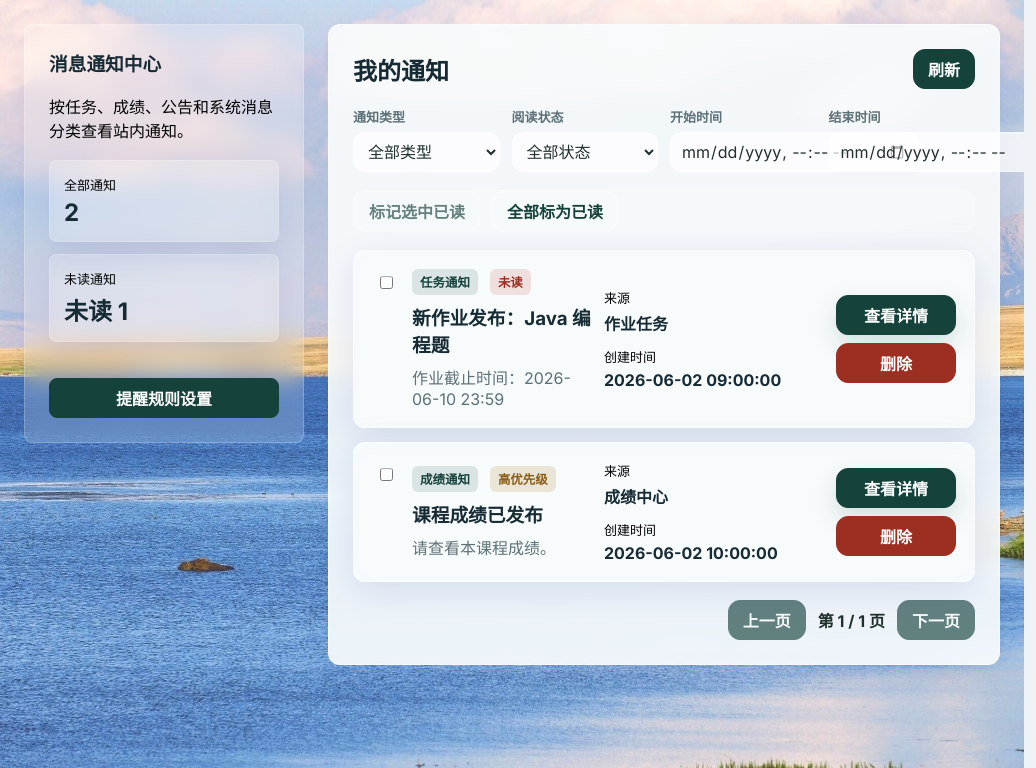
Scenario: NotificationCenterView › reloads from the first page when filters change and shows empty state
Select "成绩通知" in the dropdown named "type" at [426, 152], box [353, 132, 500, 172]
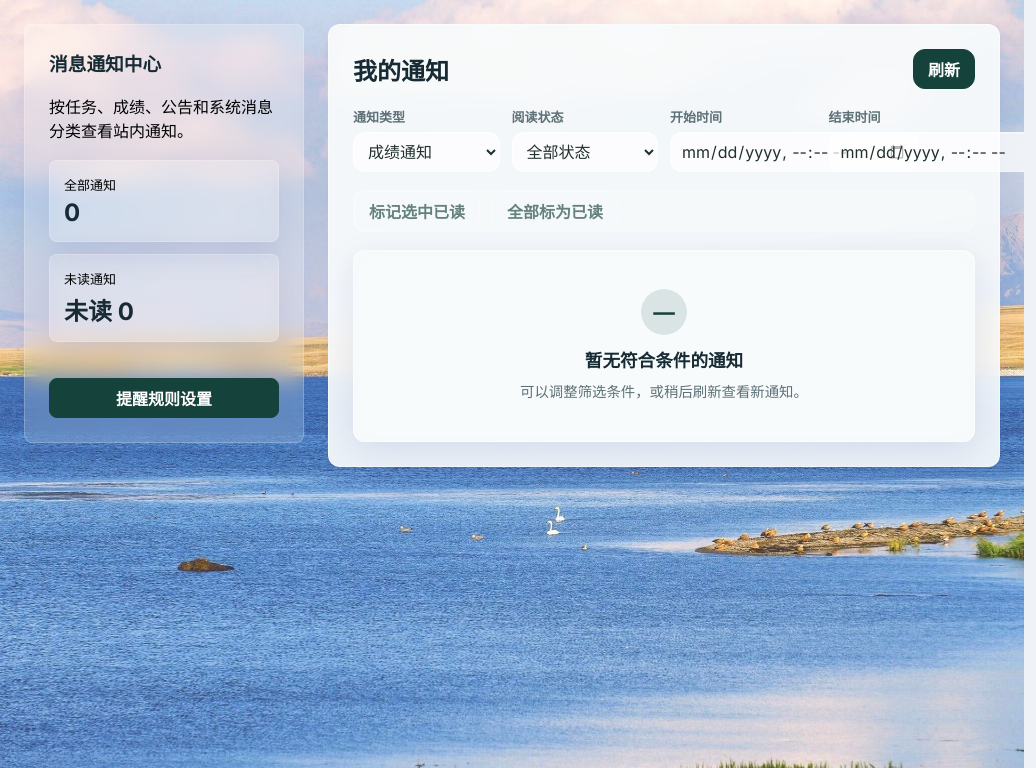
expect the text "暂无符合条件的通知" is shown: met, box [585, 350, 743, 371]
